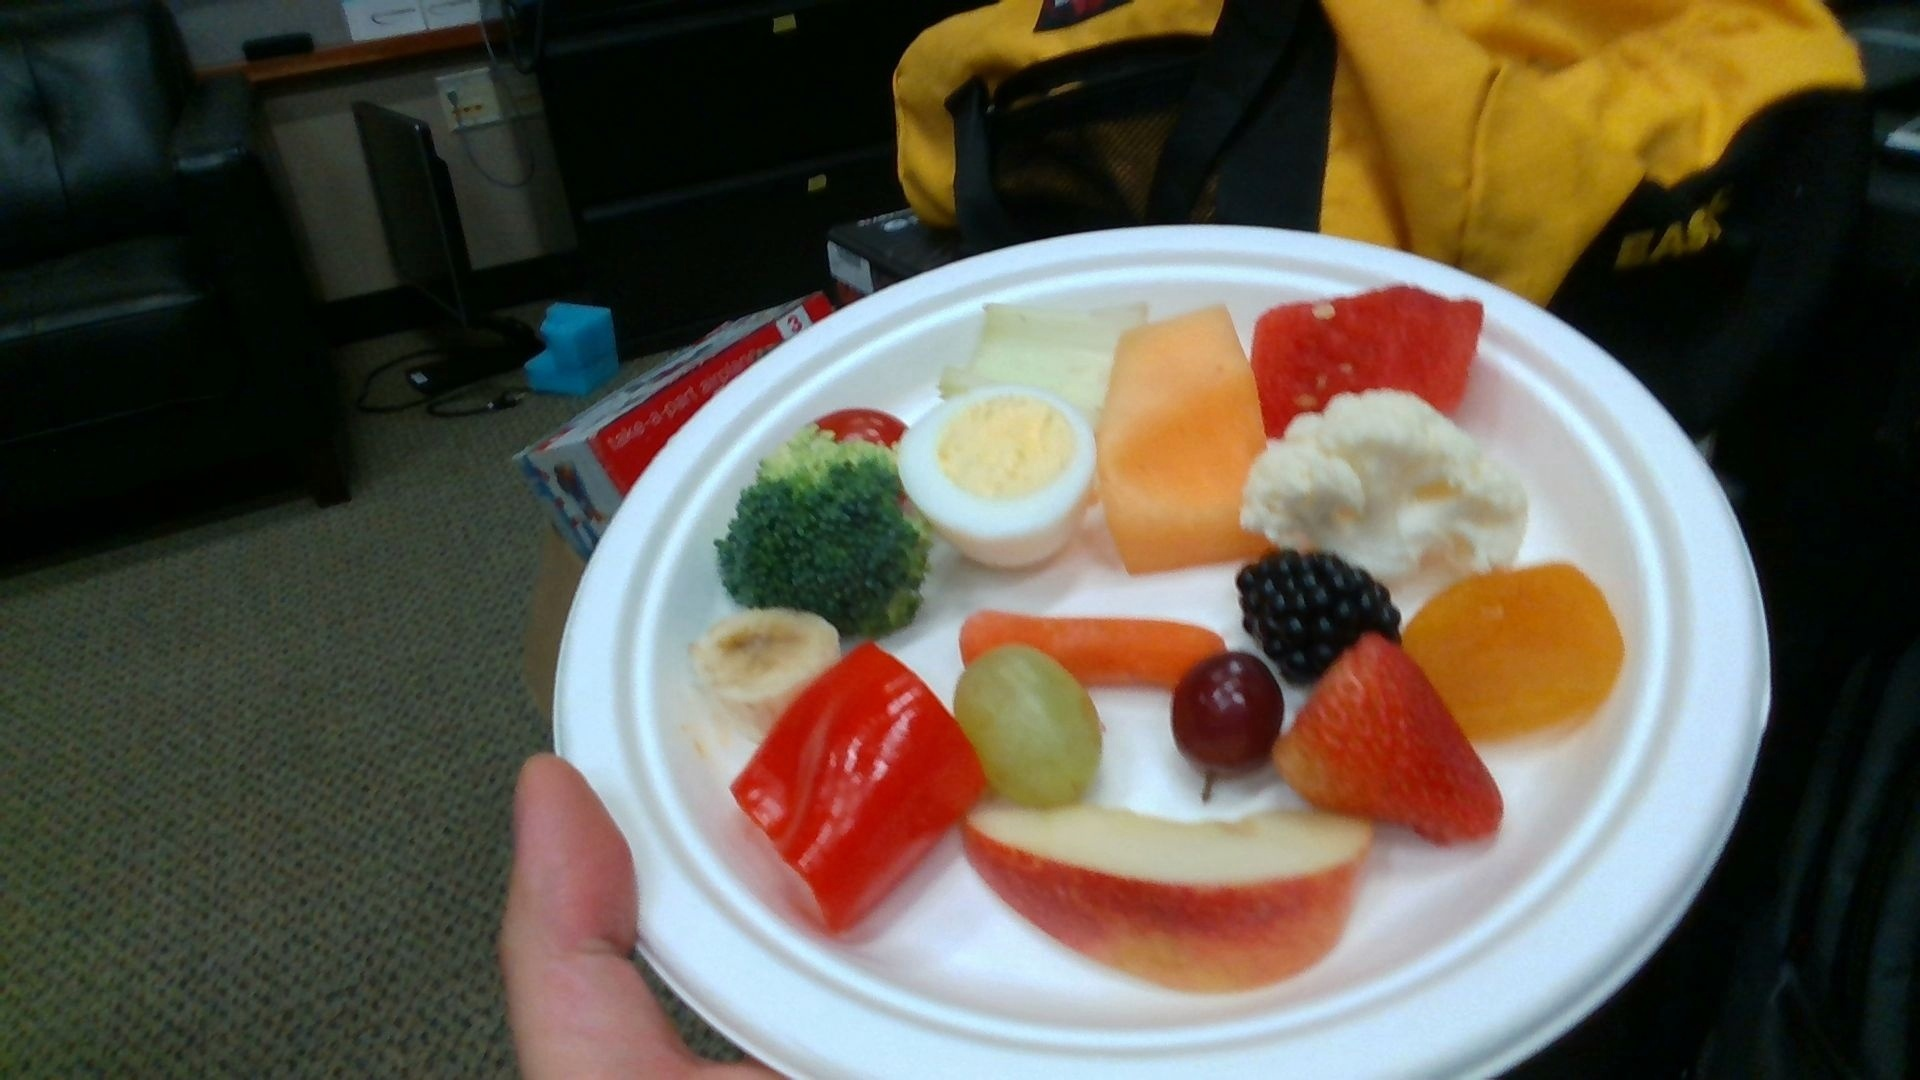apple: (964, 798, 1374, 986)
apricot: (1404, 566, 1622, 736)
banana: (688, 611, 839, 738)
bell_pepper: (732, 641, 985, 931)
blackberry: (1237, 551, 1402, 676)
broccoli: (717, 430, 924, 630)
cantalope: (1095, 306, 1275, 574)
carrot: (963, 608, 1225, 688)
cauliflower: (1242, 388, 1527, 570)
celery: (940, 301, 1145, 411)
egg: (899, 386, 1095, 568)
grape_green: (957, 645, 1104, 806)
grape_purple: (1175, 651, 1280, 775)
melon: (1250, 286, 1484, 435)
strawberry: (1273, 636, 1499, 847)
